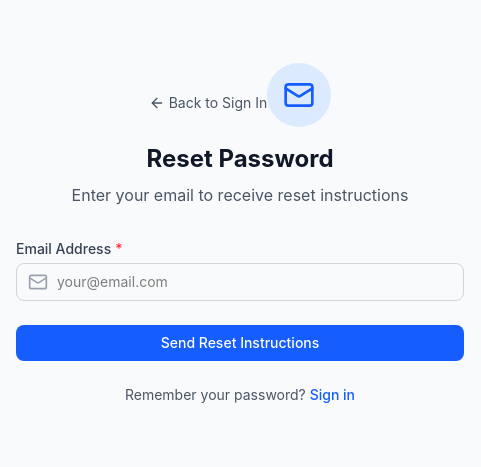
Test: ForgotPasswordPage › shows error when email is empty
Click the button "Send Reset Instructions".
click(240, 343)  # box left=16, top=325, right=464, bottom=361
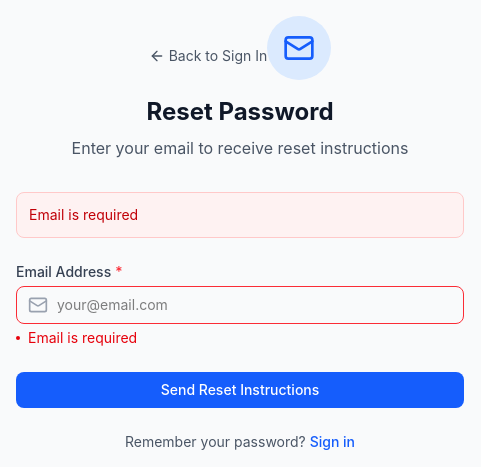
Check: the text "Email is required" is shown, box left=16, top=192, right=464, bottom=238
